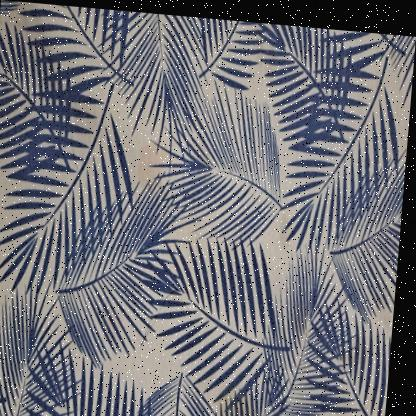spot: (127, 119, 174, 198)
